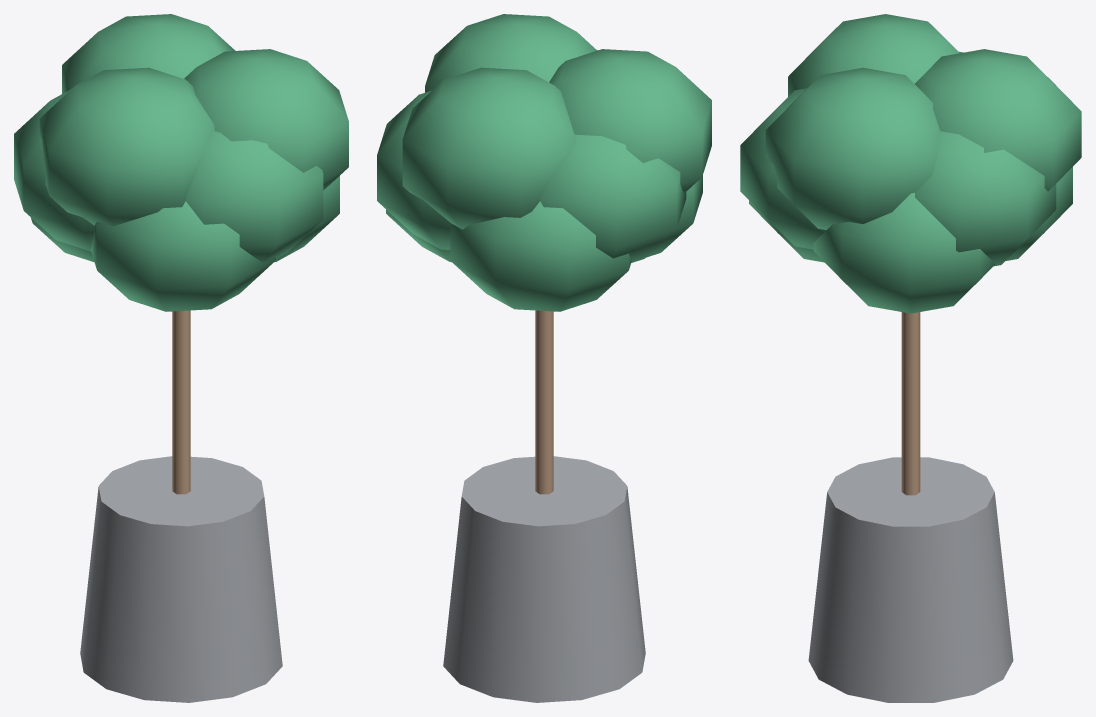
The model's file is plant_ficus.glb.
The picture shows the model from 3 angles, left to right: view 1: azimuth 30°, elevation 25°; view 2: azimuth 150°, elevation 25°; view 3: azimuth 270°, elevation 25°; orthographic projection.
Visible parts, largest first — view 1: plant_ficus; view 2: plant_ficus; view 3: plant_ficus.
Boxes of the visible parts, bbox=[...] form: plant_ficus: bbox=[14, 14, 348, 702]; plant_ficus: bbox=[377, 14, 711, 702]; plant_ficus: bbox=[740, 14, 1081, 702].
Size of the model in its own units: 0.7288 by 1.44 by 0.7336.
